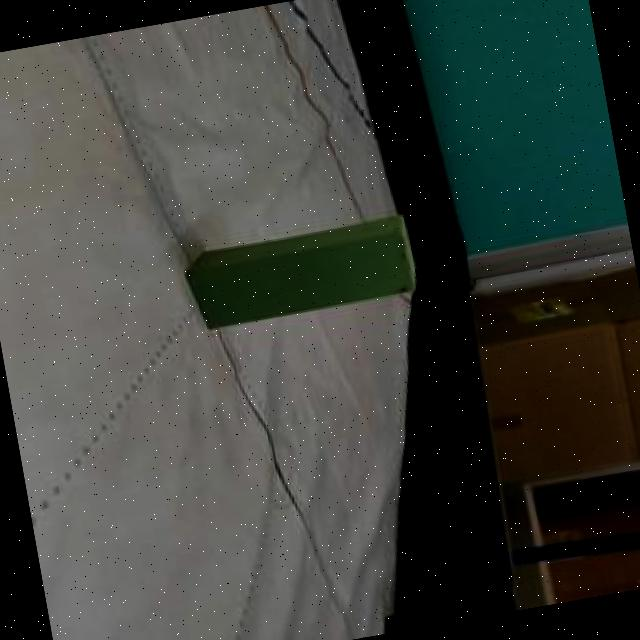greenbox: (180, 208, 421, 334)
